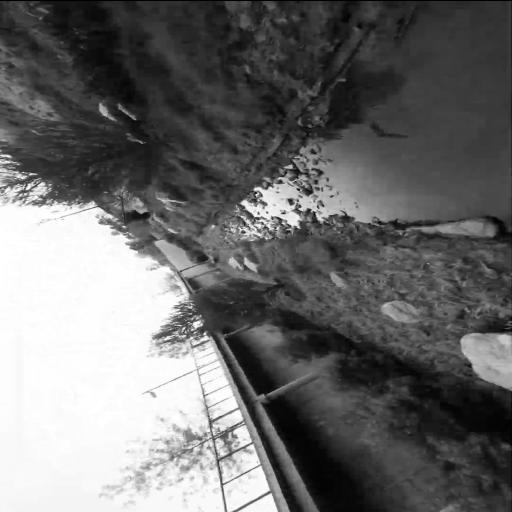uav: (117, 194, 129, 226)
